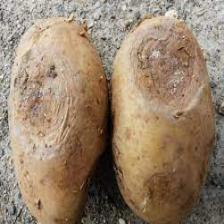Diseased-fungal potato: (6, 9, 110, 224), (110, 11, 212, 224)
